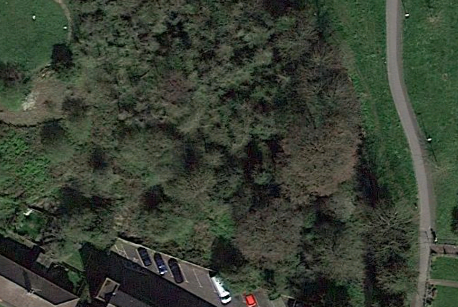tree: (272, 128, 367, 197), (228, 186, 308, 263), (60, 197, 122, 252), (139, 198, 198, 244), (37, 117, 80, 168), (224, 257, 275, 297), (78, 157, 128, 196), (44, 55, 88, 92), (245, 159, 277, 191)
